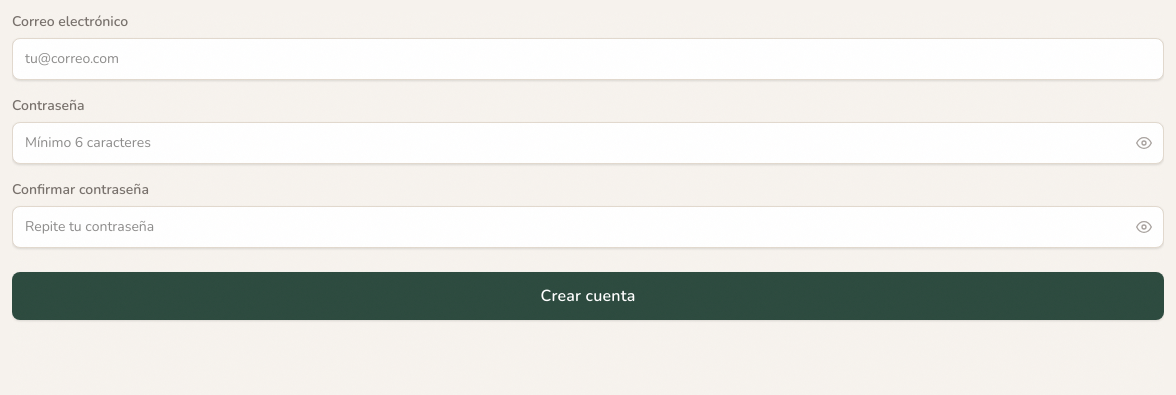
Test: RegisterForm › muestra error cuando la contraseña es muy corta
Type "ana@test.com" into the field labelled "Correo electrónico" at (588, 59), box [12,38,1164,80]
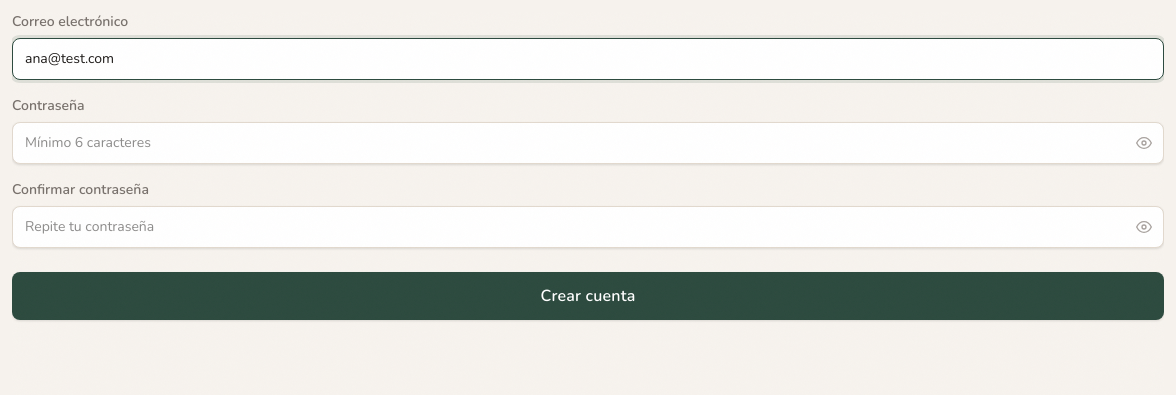
Type "abc" into the password field labelled "Contraseña" at (588, 143), box [12,122,1164,164]
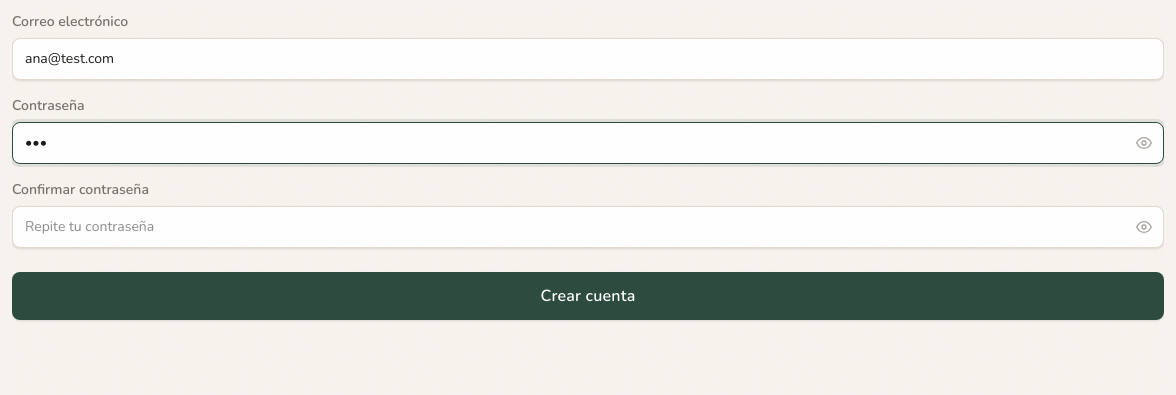
Type "abc" into the password field labelled "Confirmar contraseña" at (588, 227), box [12,206,1164,248]
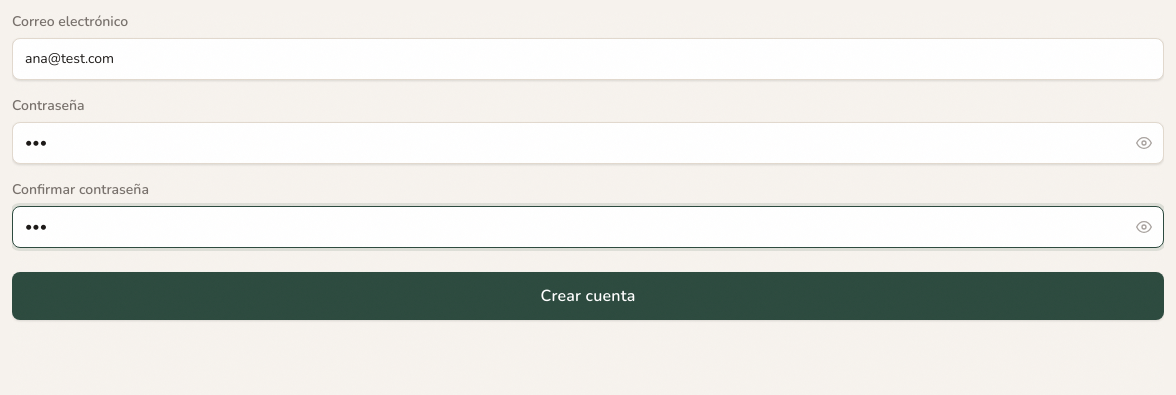
Click the button "Crear cuenta" at (588, 296), box [12,272,1164,320]
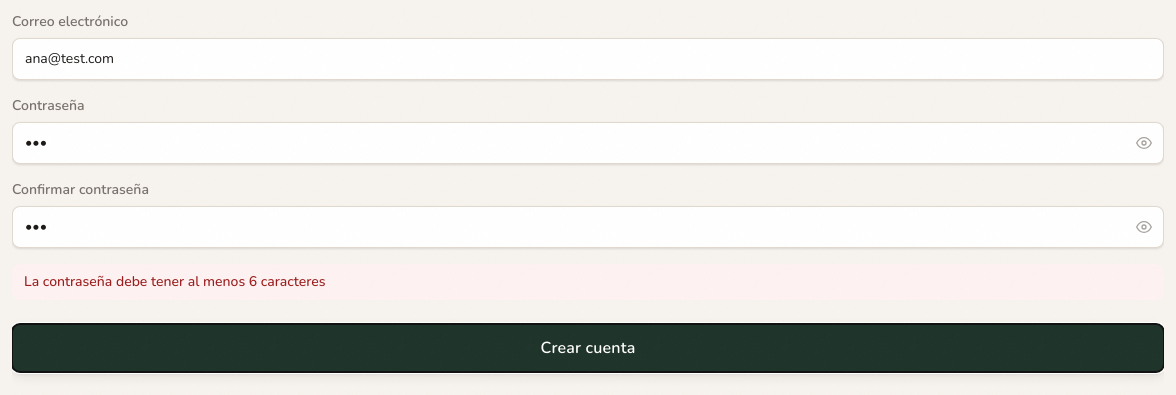
Expected: the text "La contraseña debe tener al menos 6 caracteres" is shown, [12,264,1164,300]
